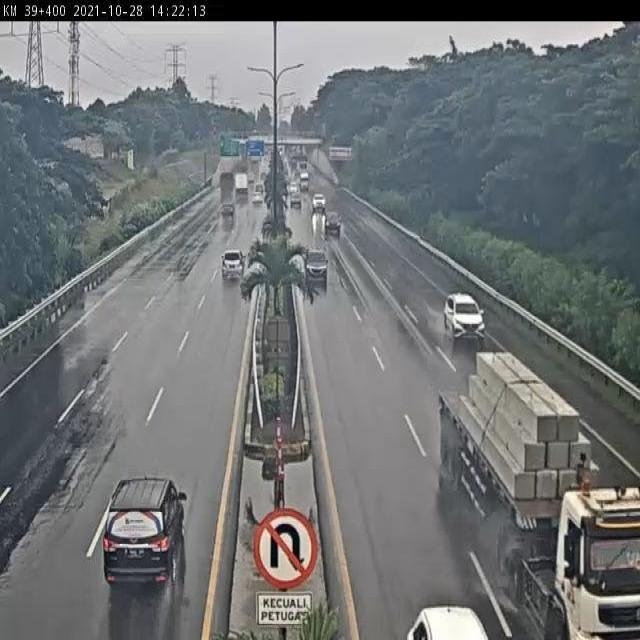car: (100, 472, 187, 593), (442, 287, 489, 344), (303, 246, 331, 286), (220, 247, 247, 285)
truck-xl-: (435, 354, 640, 640)
